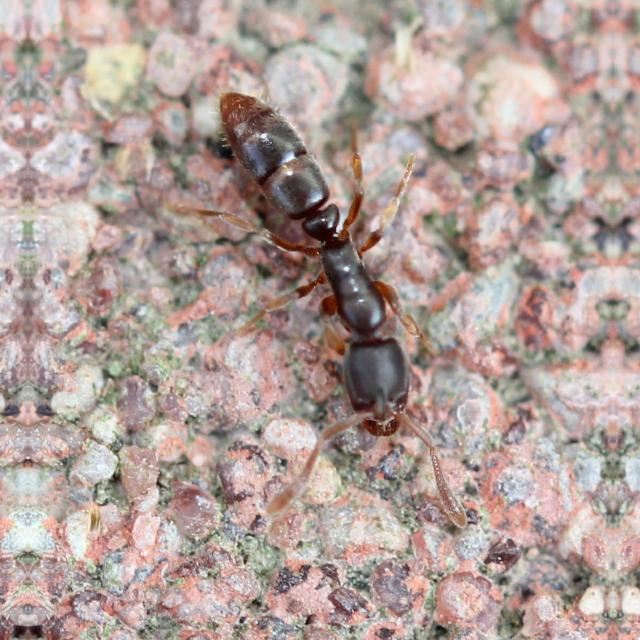Ponera: (155, 56, 471, 462)
